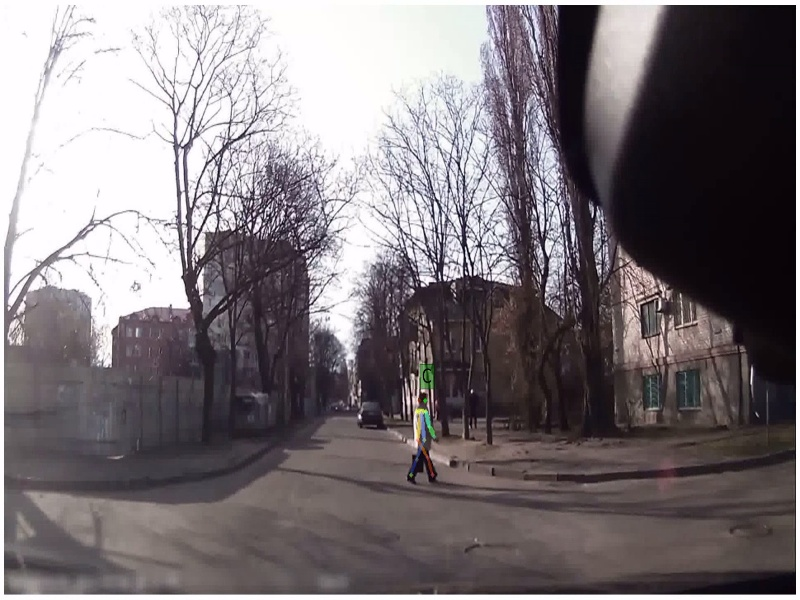car: (345, 390, 384, 441)
person: (406, 393, 442, 484)
